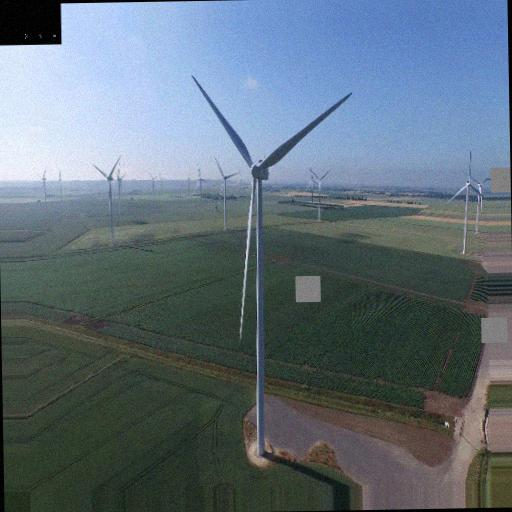wind turbine: (192, 75, 352, 451), (446, 152, 484, 253), (91, 155, 120, 239), (211, 156, 239, 233), (310, 168, 331, 224)
